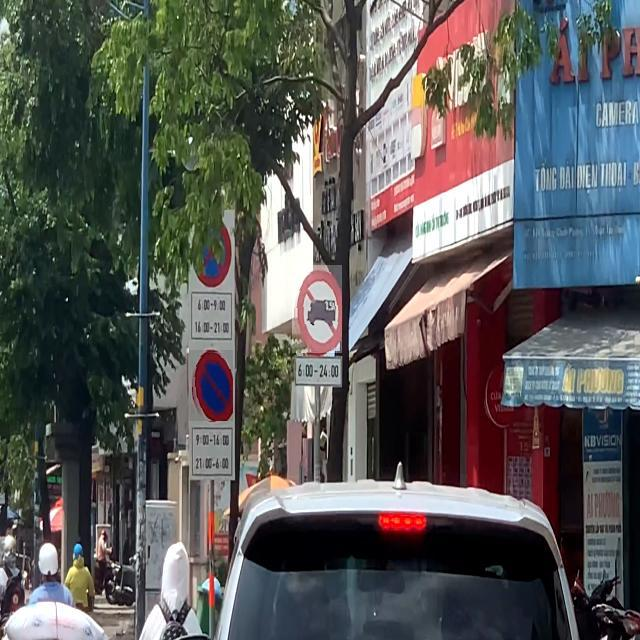P-106b: (292, 265, 342, 353)
P-131a: (189, 350, 233, 421)
